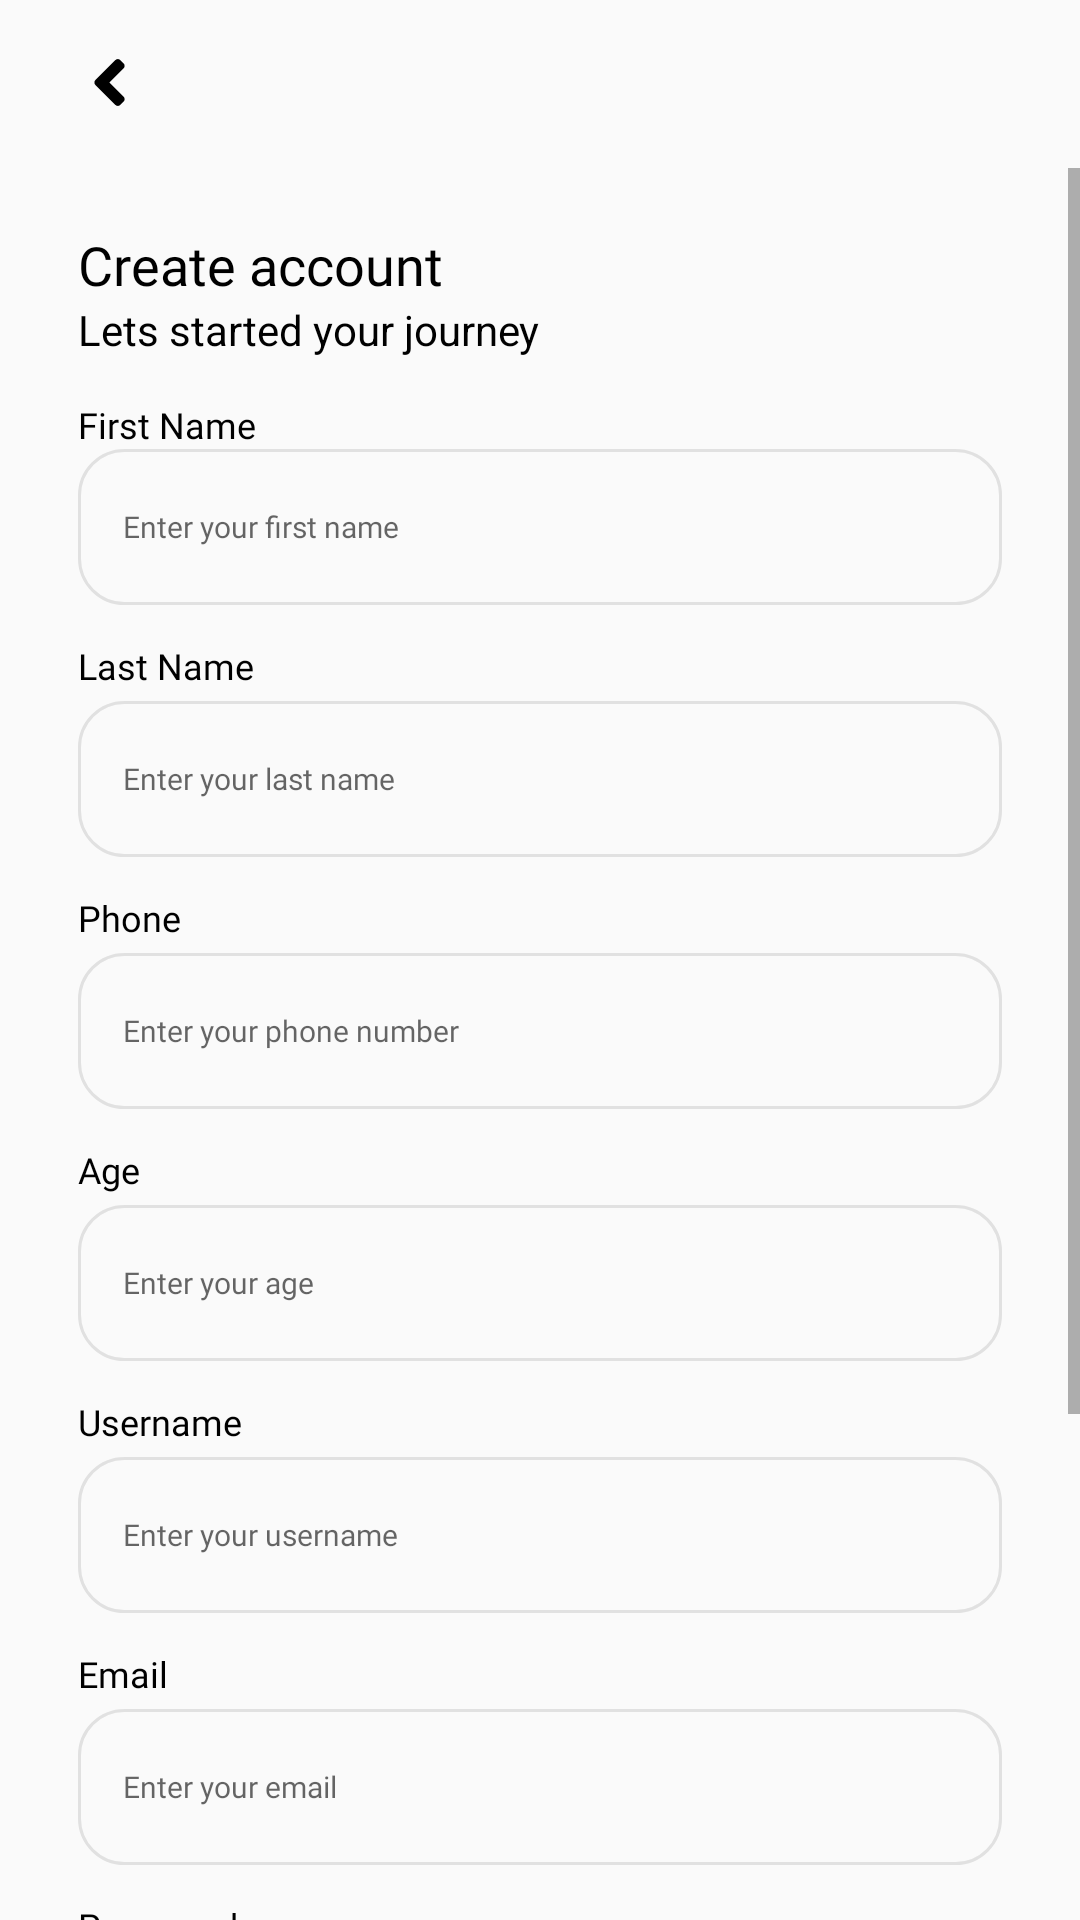

Icon click points for this 1080×1920 phone screenshot, format [x,y]:
back: [109,82]
